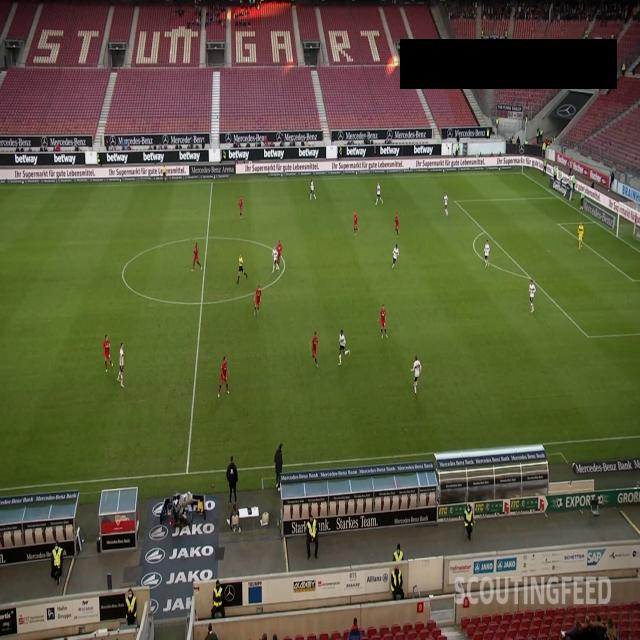ball: (412, 379, 416, 389)
f_player: (218, 356, 232, 398), (272, 240, 286, 274), (528, 278, 540, 314), (337, 329, 349, 365), (412, 356, 422, 396), (104, 334, 114, 373), (311, 334, 321, 372), (118, 344, 126, 388), (378, 304, 388, 338), (392, 240, 402, 270), (254, 288, 264, 316), (578, 224, 586, 250), (483, 240, 491, 266), (192, 243, 200, 267), (351, 212, 359, 235), (236, 198, 244, 220), (375, 185, 383, 207), (308, 180, 316, 202), (443, 193, 450, 218), (395, 215, 401, 237)
umpire: (235, 255, 248, 283), (161, 162, 170, 188)
